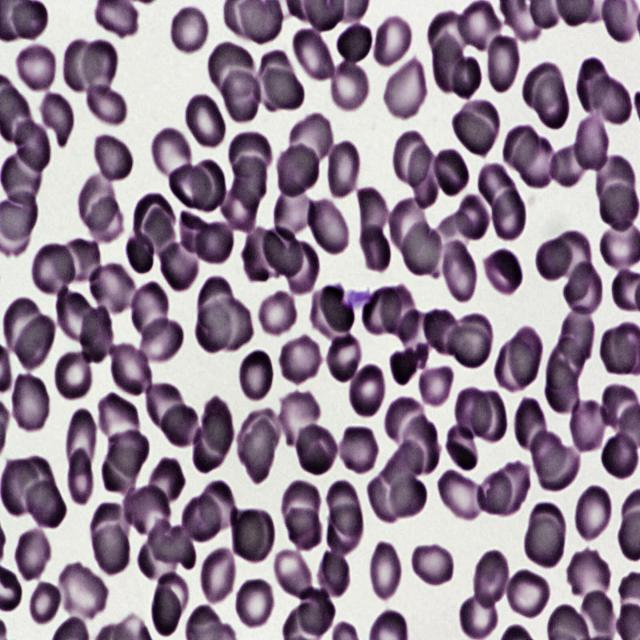red blood cell: (238, 408, 282, 484), (56, 561, 108, 624), (382, 54, 428, 124), (452, 96, 502, 158), (524, 499, 566, 572), (276, 388, 322, 454), (307, 284, 355, 346), (86, 261, 138, 318), (199, 299, 254, 352), (122, 482, 171, 540), (29, 241, 78, 298), (291, 26, 339, 84), (438, 237, 478, 306), (230, 506, 276, 566), (436, 471, 488, 524), (305, 196, 350, 257), (446, 315, 494, 372), (54, 284, 100, 343), (242, 222, 286, 283), (276, 141, 322, 199), (566, 548, 612, 606), (288, 112, 334, 170), (96, 392, 142, 450), (10, 370, 50, 436), (191, 413, 232, 477), (504, 567, 551, 622), (272, 545, 318, 601), (208, 42, 254, 98), (76, 170, 118, 231), (183, 92, 227, 150), (146, 520, 197, 570), (254, 47, 293, 112), (294, 421, 339, 477), (130, 281, 170, 344), (472, 547, 512, 610), (0, 145, 43, 203), (456, 0, 503, 53), (573, 482, 613, 544), (109, 341, 152, 398), (381, 436, 427, 489), (476, 159, 518, 217), (386, 197, 430, 252), (516, 135, 560, 190), (3, 297, 44, 356), (53, 235, 102, 284), (573, 112, 611, 175), (278, 332, 322, 386), (487, 462, 530, 517), (512, 397, 552, 456), (324, 140, 363, 200), (402, 413, 439, 476), (12, 116, 52, 174), (168, 0, 210, 55), (484, 30, 520, 94), (199, 544, 236, 606), (588, 73, 632, 125), (347, 362, 387, 419), (371, 18, 414, 71), (409, 140, 442, 209), (262, 224, 304, 278), (234, 576, 275, 631), (220, 67, 261, 122), (569, 397, 609, 453), (15, 316, 58, 368), (367, 540, 403, 602), (15, 42, 57, 95), (186, 158, 227, 212), (432, 30, 466, 95), (14, 526, 52, 584), (391, 128, 429, 186), (338, 423, 378, 478), (15, 455, 58, 506), (168, 164, 214, 211), (329, 59, 369, 113), (280, 479, 320, 533), (37, 89, 73, 149), (402, 221, 442, 275), (382, 282, 418, 342), (427, 8, 471, 57), (314, 544, 351, 602), (198, 275, 235, 333), (565, 261, 604, 316), (1, 459, 40, 514), (108, 427, 150, 478), (150, 126, 192, 177), (561, 303, 595, 366), (495, 338, 533, 394), (282, 239, 320, 295), (80, 40, 118, 96), (454, 386, 494, 439), (92, 130, 132, 183), (158, 242, 200, 292), (133, 194, 175, 244), (550, 232, 592, 282), (546, 338, 584, 393), (237, 347, 274, 403), (61, 36, 98, 92), (231, 156, 268, 212), (327, 502, 364, 558), (411, 541, 454, 589), (522, 61, 564, 110), (325, 330, 363, 384), (94, 522, 132, 576), (90, 500, 131, 550), (509, 325, 542, 387), (274, 186, 314, 237), (432, 211, 472, 262), (363, 284, 402, 336), (139, 316, 183, 362), (538, 445, 582, 491), (216, 185, 258, 233), (430, 147, 470, 197), (599, 182, 639, 232), (386, 396, 426, 446), (444, 420, 481, 474), (470, 388, 507, 442), (544, 361, 580, 416), (388, 337, 430, 384), (80, 304, 114, 362), (200, 479, 237, 532), (102, 446, 142, 495), (483, 248, 522, 298), (596, 154, 635, 204), (400, 308, 439, 358), (325, 482, 361, 536), (54, 351, 92, 402), (147, 457, 185, 508), (602, 433, 640, 484), (535, 74, 569, 131), (26, 482, 66, 530), (201, 395, 233, 455), (181, 495, 220, 544), (195, 301, 231, 354), (66, 409, 96, 472), (264, 65, 306, 110), (530, 426, 567, 477), (416, 360, 454, 409), (146, 382, 184, 431), (502, 122, 540, 171), (578, 56, 610, 114), (424, 306, 461, 356), (87, 196, 124, 246), (298, 586, 335, 636), (136, 538, 177, 583), (195, 220, 235, 266), (27, 577, 63, 628), (144, 206, 178, 260), (582, 589, 618, 639), (600, 324, 636, 374), (601, 383, 639, 430), (492, 188, 526, 240), (357, 185, 388, 242), (228, 134, 272, 174), (284, 507, 324, 551), (551, 143, 588, 190), (535, 239, 573, 284), (86, 84, 126, 126), (259, 292, 297, 335), (366, 479, 402, 524), (358, 225, 392, 272), (160, 403, 198, 445), (390, 476, 427, 519), (156, 570, 190, 616), (178, 211, 214, 254), (477, 471, 513, 514), (151, 586, 181, 637), (336, 24, 374, 64), (456, 192, 489, 238), (69, 448, 95, 506), (124, 229, 154, 278), (452, 55, 482, 99)
